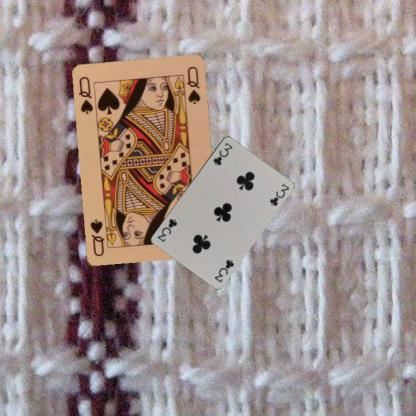3c: (212, 256, 235, 284), (210, 140, 233, 166)
Qs: (76, 74, 95, 116)
